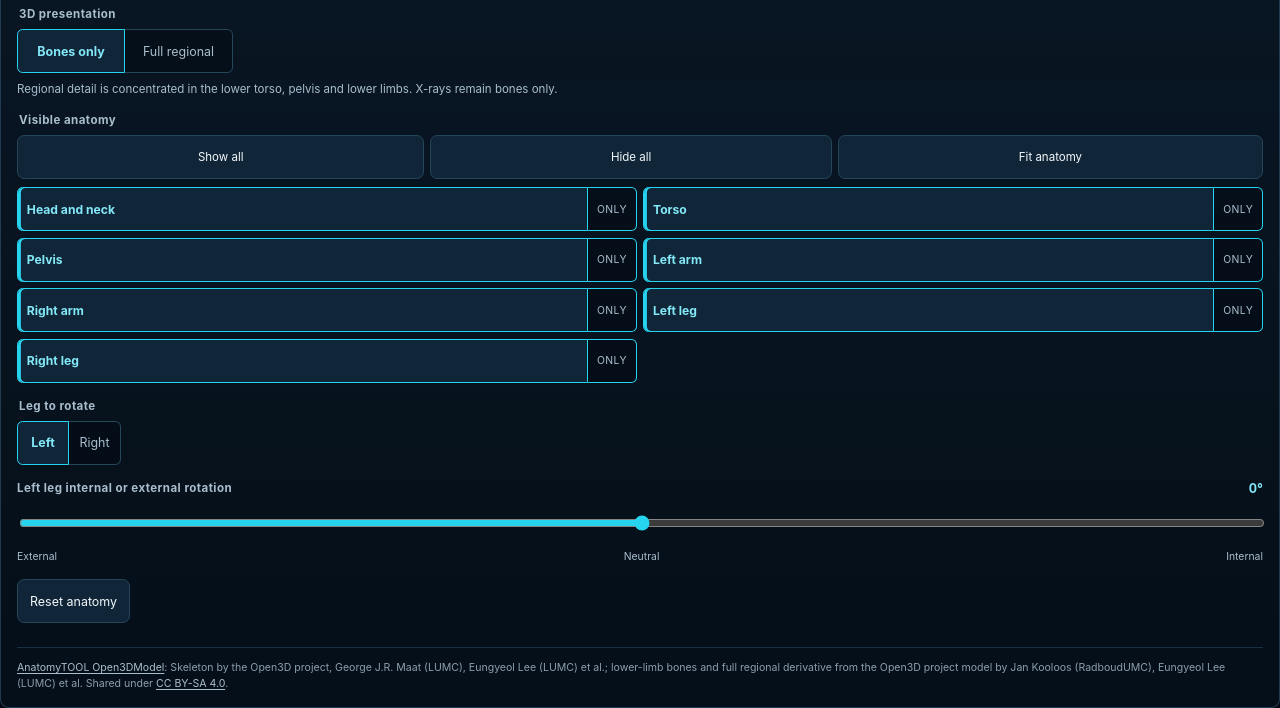
it: AnatomyControls › auto-selects a single visible leg and restores the bilateral selector
(page scrolled)
Click the button with aria-label "Show only right leg" at (612, 361), box x1=588 y1=339 x2=637 y2=383
(page scrolled)
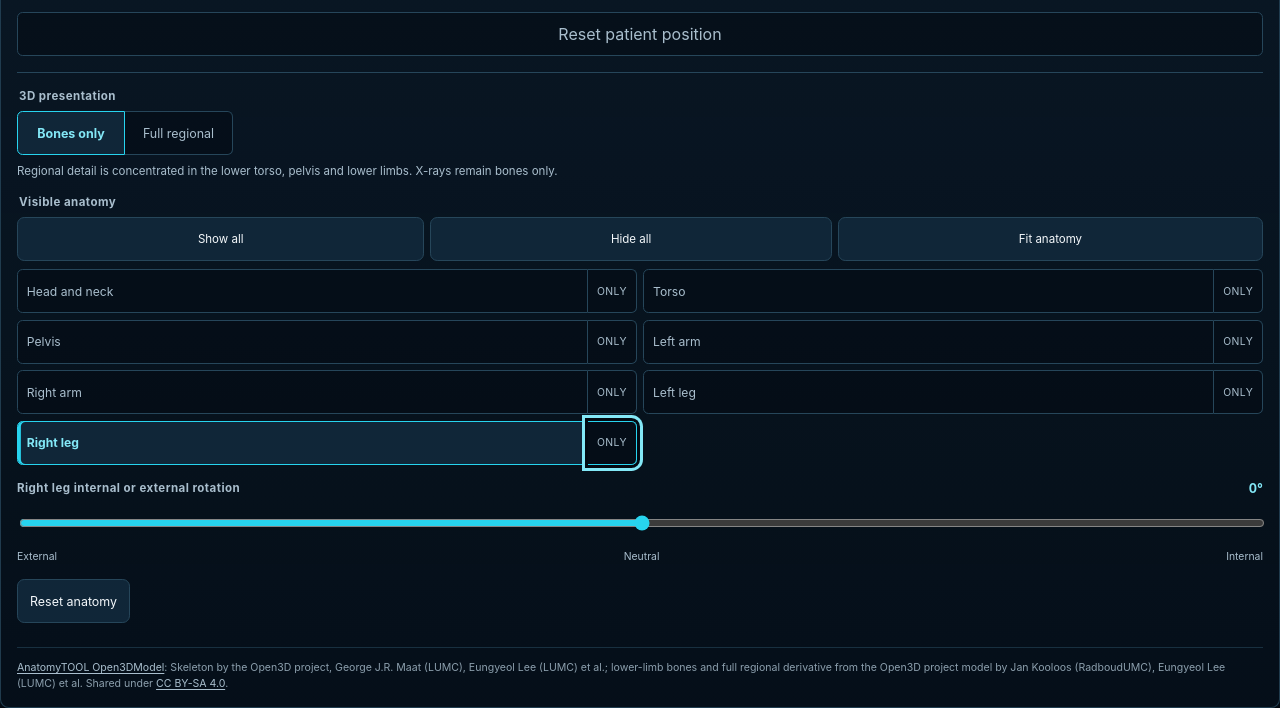
Check: the radio button labelled "Select left leg" is not shown
Check: the slider labelled "Right leg internal or external rotation" is shown, box x1=19 y1=501 x2=1265 y2=545
Click the button with aria-label "Show left leg" at (674, 392), box x1=643 y1=370 x2=1214 y2=414
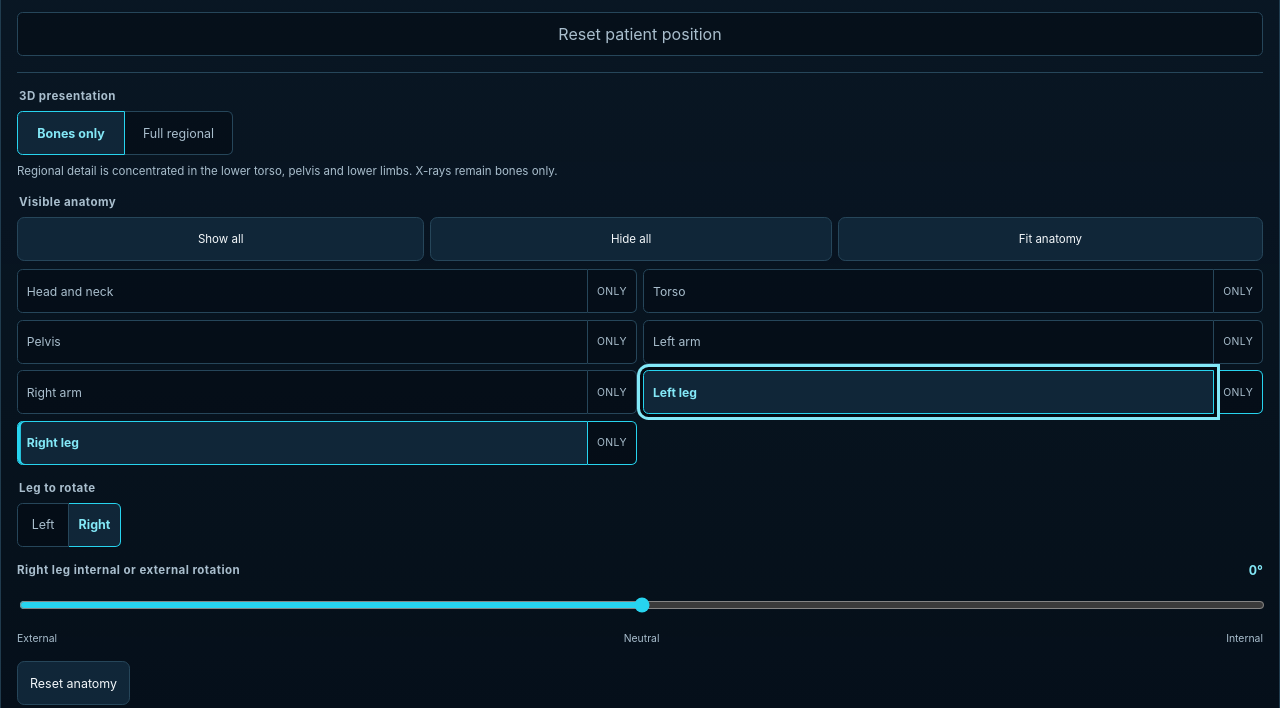
Check: the radio button named "Select right leg" is checked, box x1=69 y1=503 x2=121 y2=547
